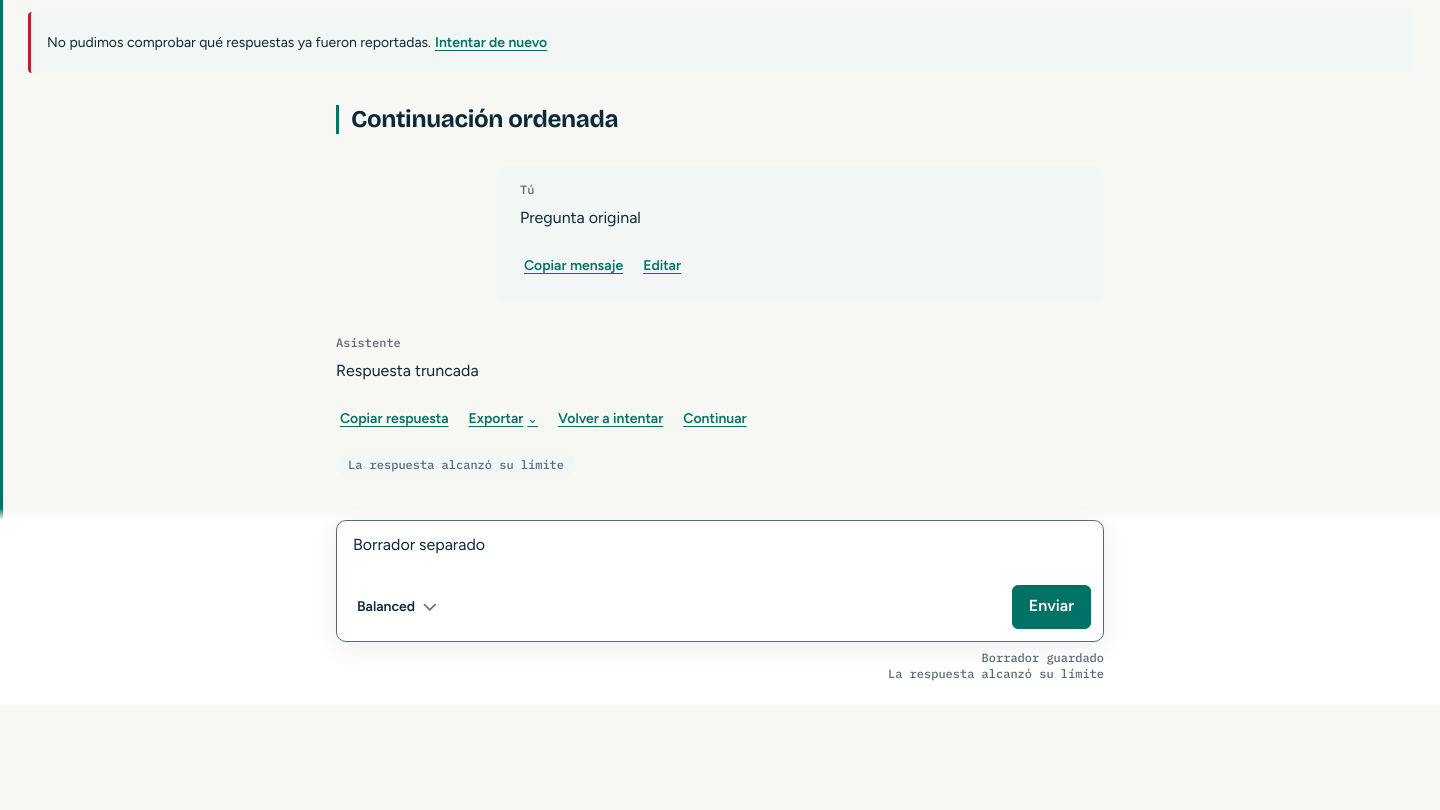
Test: conversation page › withholds a Continue assistant until its canonical user parent is available
Click the button "Continuar": (715, 419) x1=679 y1=397 x2=751 y2=441
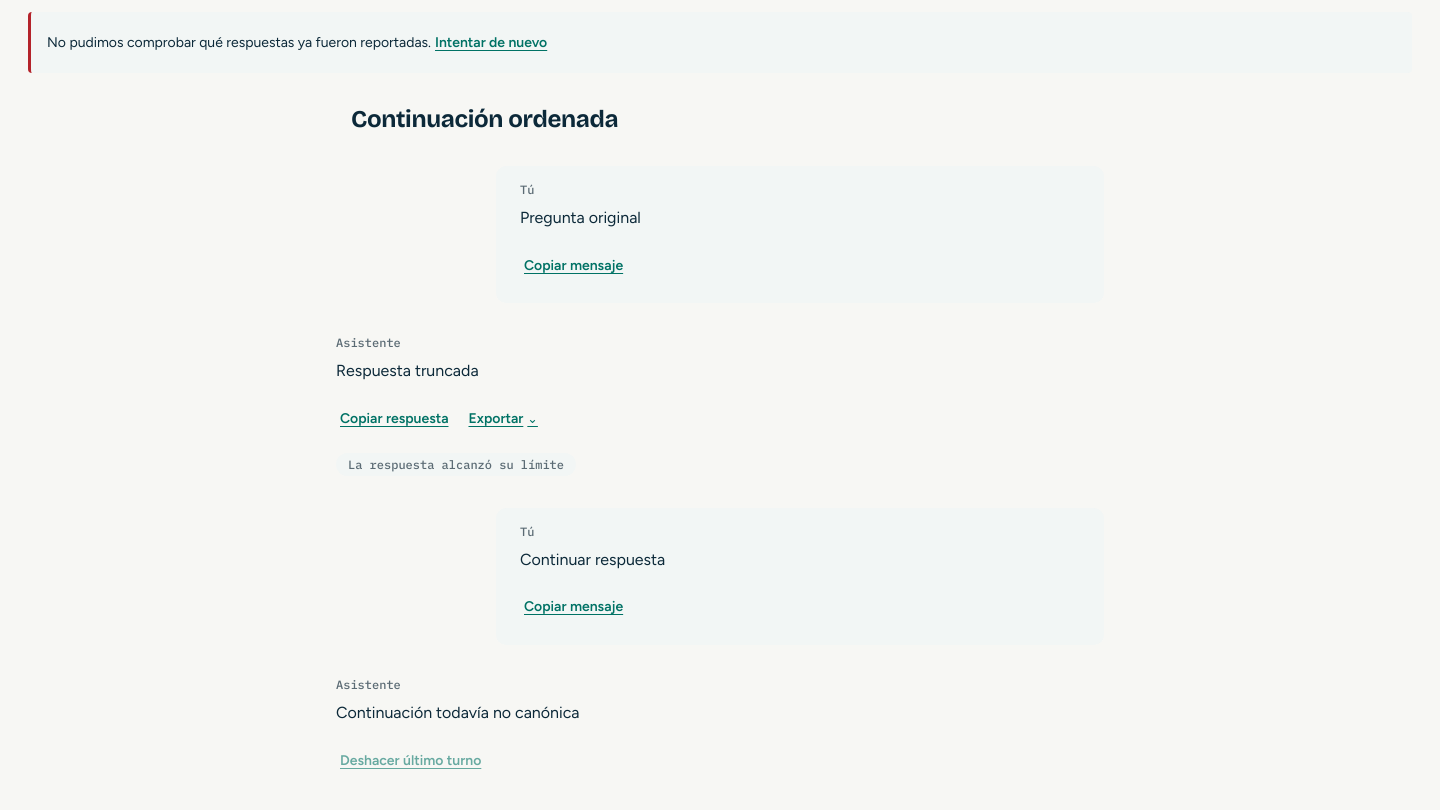
Result: the text "Continuación todavía no canónica" is shown at x1=336 y1=703 x2=580 y2=722
